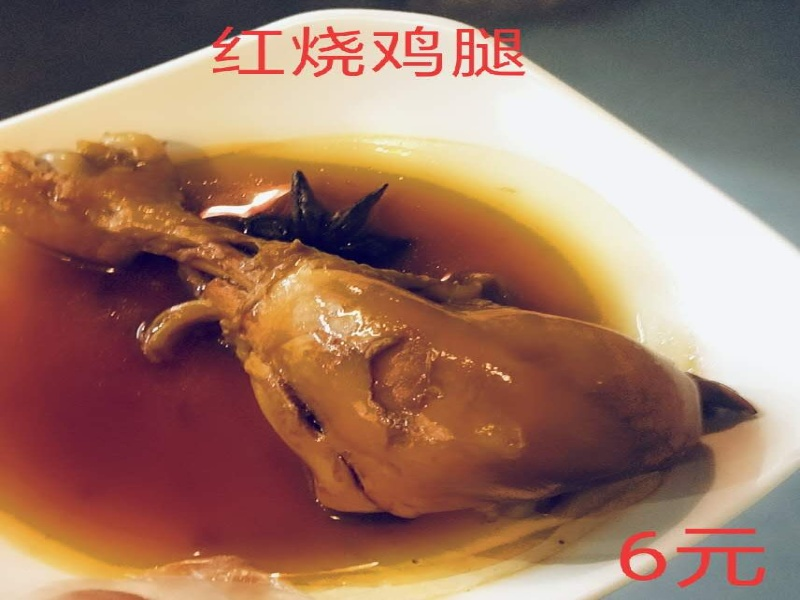chicken: (2, 125, 717, 530)
